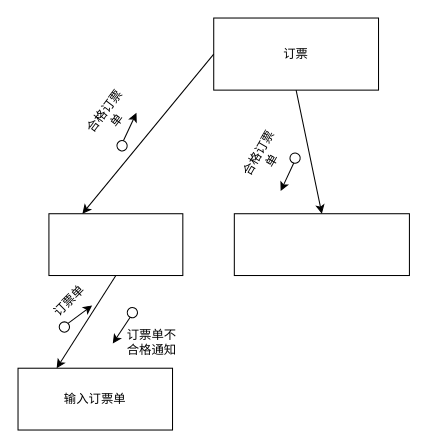
Image size: 427x448. Some labels were removed from this diagram. The shapes that lost their labels are listed below. From the top down, each one's centre as x and y in pixels, then its label:
At [115,244]: "检查订票单".
At [321,244]: "查找是否有剩余车票".
